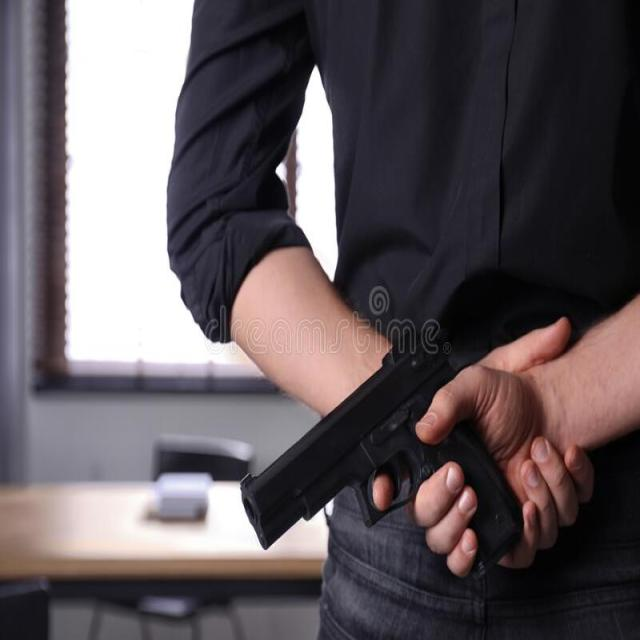HandGun: (241, 319, 519, 568)
